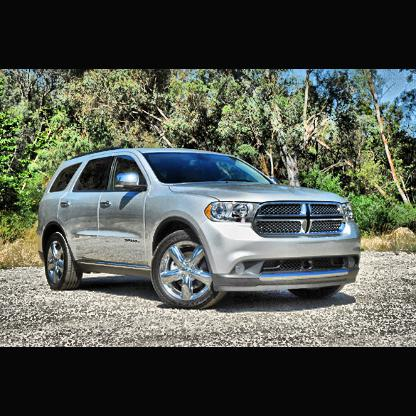Dodge Durango SUV 2012: (38, 147, 365, 311)
